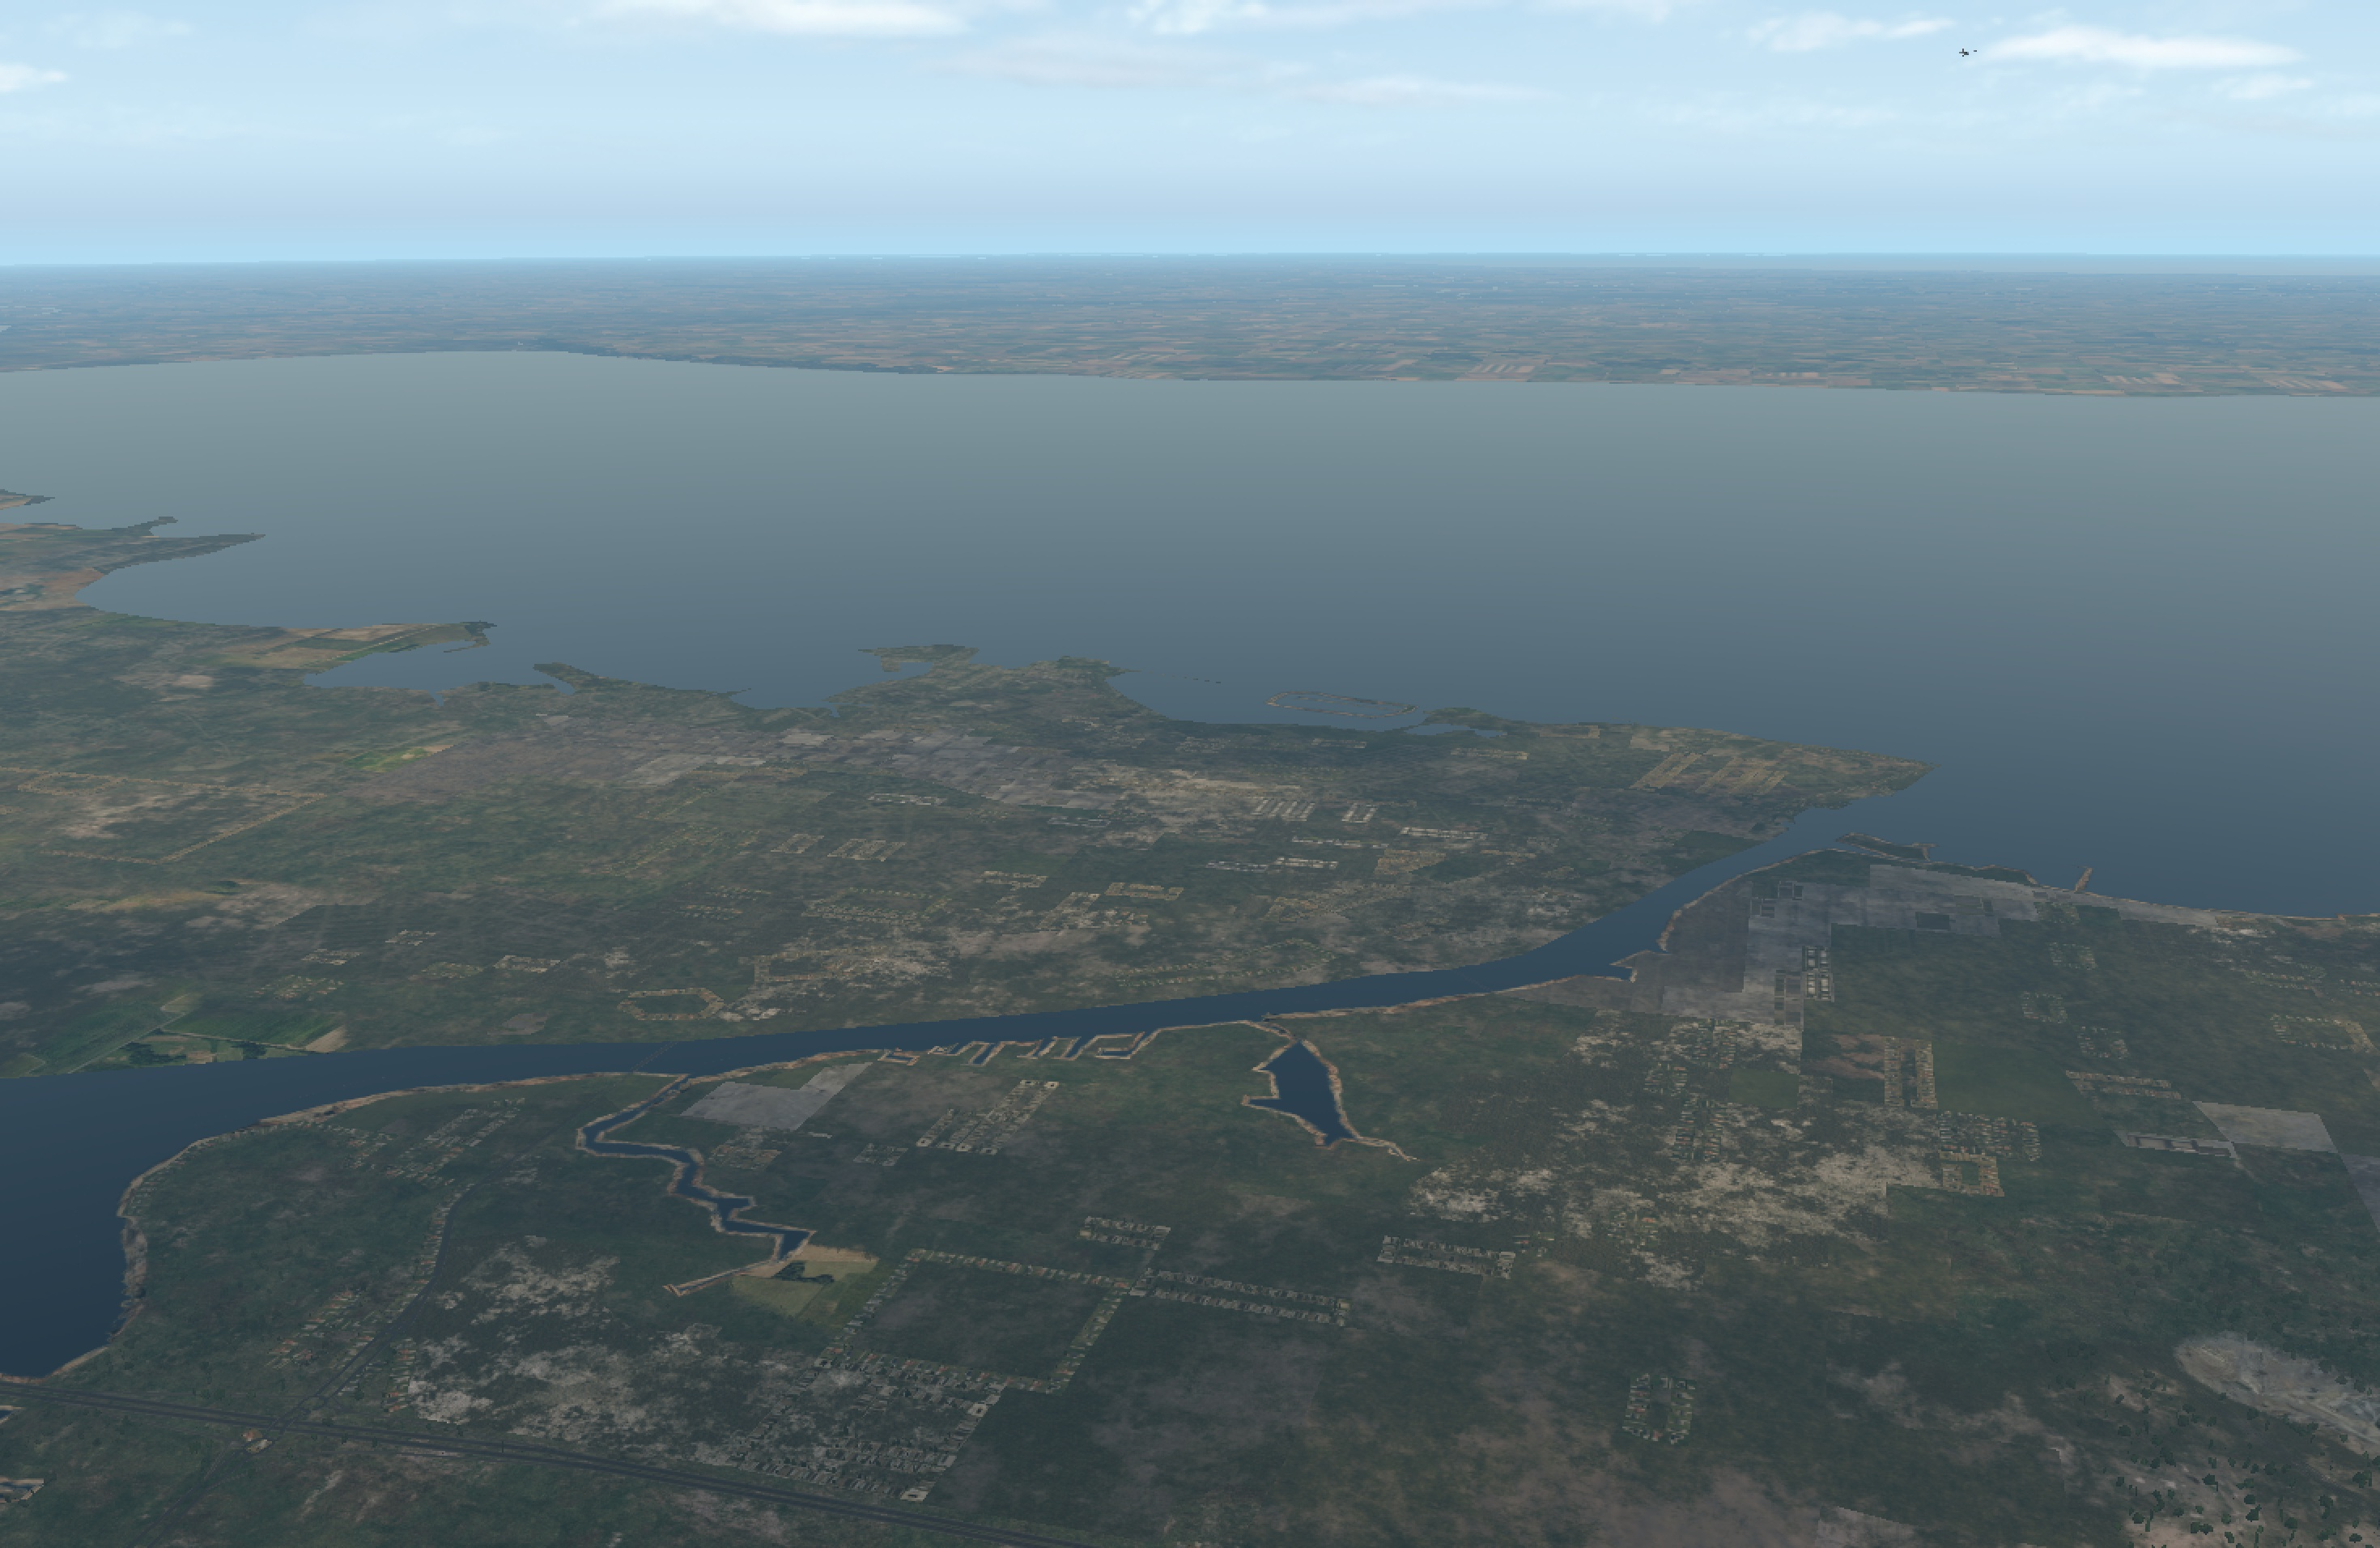aircraft: (1958, 50, 1974, 56)
